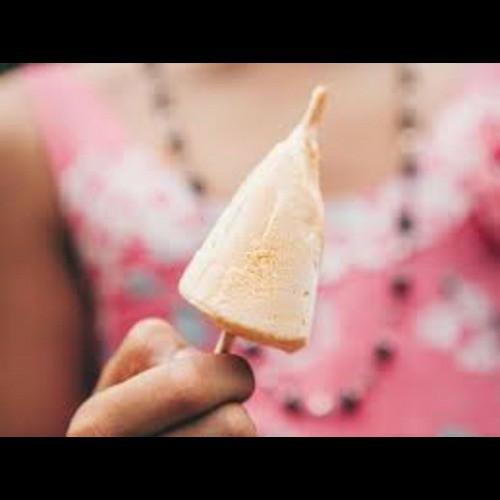Kulfi: (176, 121, 324, 354)
